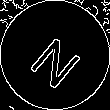N_NE: (24, 23, 86, 87)
